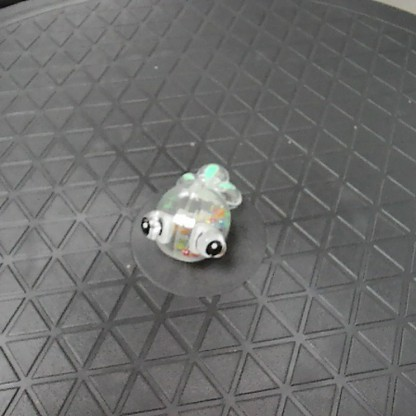whitefish: (140, 159, 244, 264)
